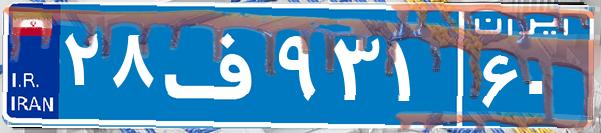0: (525, 38, 570, 115)
1: (385, 28, 445, 110)
2: (57, 26, 110, 107)
3: (330, 28, 385, 110)
6: (475, 38, 525, 113)
8: (110, 28, 158, 105)
9: (273, 28, 330, 110)
ف: (158, 15, 273, 115)
